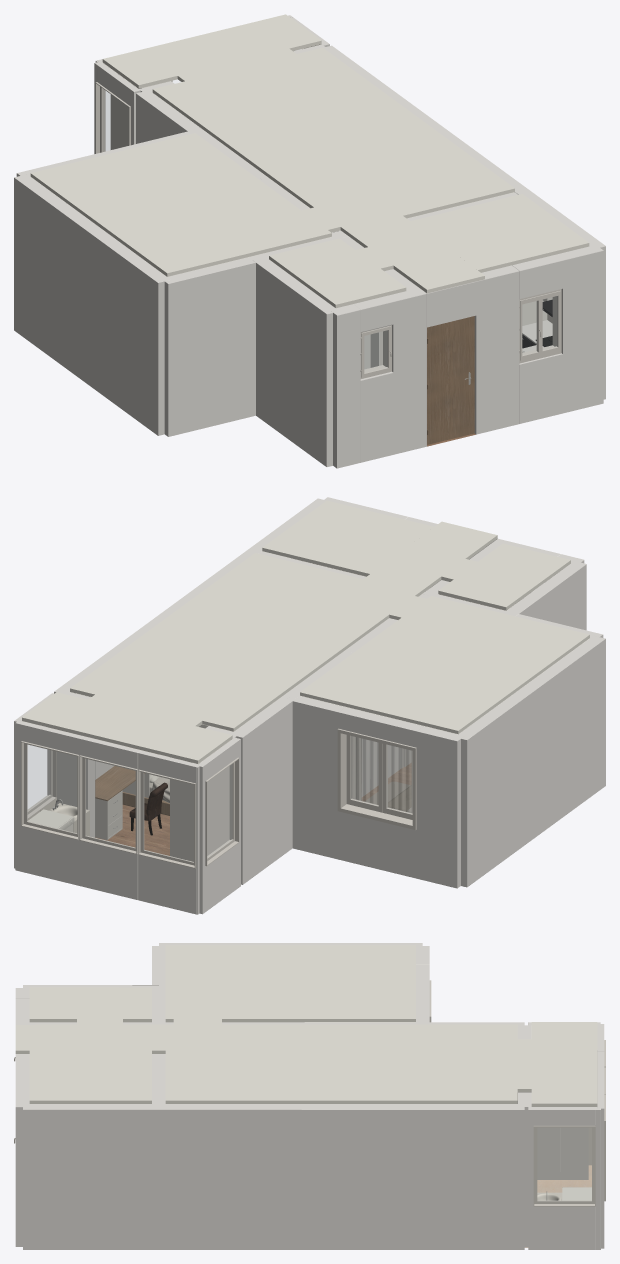
File: apartment-doors-v7.glb
The picture shows the model from 3 angles, top to bottom: view 1: azimuth 30°, elevation 25°; view 2: azimuth 150°, elevation 25°; view 3: azimuth 270°, elevation 25°; orthographic projection. The views are drawn at different scales.
Visible parts, largest first — view 1: Static_bath, Static_master, Ceiling_master, Static_kitchen, Ceiling_second, Ceiling_dining, Ceiling_kitchen, Ceiling_balcony, Static_entry, Ceiling_bath, Ceiling_entry, Static_balcony (+2 smaller); view 2: Static_master, Static_balcony, Ceiling_master, Ceiling_second, Static_second, Ceiling_dining, Ceiling_balcony, Ceiling_kitchen, Ceiling_bath, Static_bath, Ceiling_entry, Static_dining (+1 smaller); view 3: Static_dining, Ceiling_master, Ceiling_second, Static_balcony, Ceiling_dining, Ceiling_kitchen, Ceiling_balcony, Ceiling_bath, Ceiling_entry, Static_kitchen, Static_bath, Static_master (+1 smaller).
Boxes of the visible parts, x1,y1,x2,y2 form: Static_bath: (163, 235, 426, 468); Static_master: (14, 130, 331, 435); Ceiling_master: (30, 133, 340, 276); Static_kitchen: (407, 192, 603, 434); Ceiling_second: (152, 48, 437, 176); Ceiling_dining: (268, 132, 514, 233); Ceiling_kitchen: (411, 194, 589, 272); Ceiling_balcony: (102, 14, 321, 88); Static_entry: (346, 234, 476, 446); Ceiling_bath: (269, 238, 406, 308); Ceiling_entry: (345, 216, 484, 293); Static_balcony: (94, 15, 329, 153); Static_master: (287, 636, 605, 888); Static_balcony: (14, 692, 240, 914); Ceiling_master: (300, 596, 589, 733); Ceiling_second: (70, 607, 345, 731); Static_second: (70, 618, 401, 884); Ceiling_dining: (182, 553, 418, 649); Ceiling_balcony: (22, 692, 232, 763); Ceiling_kitchen: (262, 500, 433, 576); Ceiling_bath: (438, 543, 570, 610); Static_bath: (423, 538, 603, 637); Ceiling_entry: (363, 521, 497, 595); Static_dining: (54, 498, 429, 779); Static_dining: (23, 1022, 524, 1249); Ceiling_master: (165, 945, 415, 1024); Ceiling_second: (306, 1024, 517, 1103); Static_balcony: (517, 1022, 605, 1249); Ceiling_dining: (165, 1024, 305, 1103); Ceiling_kitchen: (29, 1050, 151, 1103); Ceiling_balcony: (517, 1022, 597, 1106); Ceiling_bath: (29, 987, 151, 1024); Ceiling_entry: (15, 1024, 165, 1053); Static_kitchen: (14, 1054, 165, 1246); Static_bath: (14, 946, 165, 1061); Static_master: (159, 943, 431, 1024).
Bounding box in the file's own units: 6.93 × 2.78 × 10.34.
51 materials, 19 textured.
